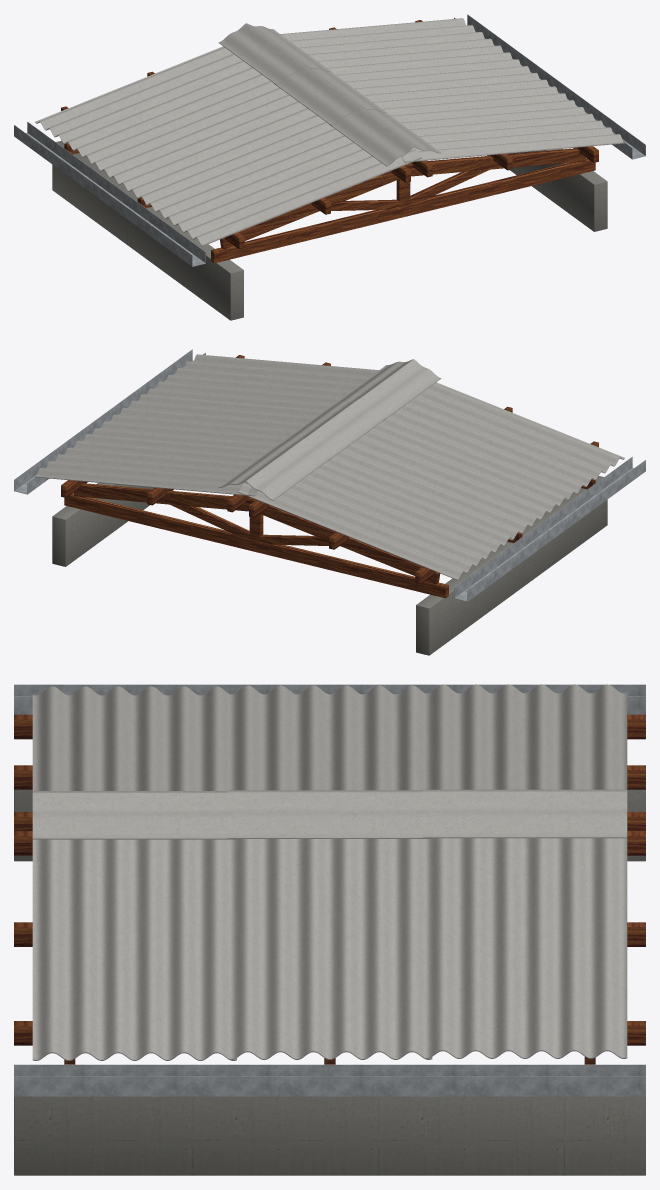
Rendered from KIT-COB-02.glb.
The picture shows the model from 3 angles, top to bottom: view 1: azimuth 30°, elevation 25°; view 2: azimuth 150°, elevation 25°; view 3: azimuth 270°, elevation 25°; orthographic projection. The views are drawn at different scales.
Visible parts, largest first — view 1: KIT-COB-02_p0, KIT-COB-02_p2, KIT-COB-02_p1, KIT-COB-02_p3, KIT-COB-02_p5, KIT-COB-02_p4, KIT-COB-02_apoio-1, KIT-COB-02_linha0, KIT-COB-02_calha-1, KIT-COB-02_p8, KIT-COB-02_p6, KIT-COB-02_p7 (+6 smaller); view 2: KIT-COB-02_p2, KIT-COB-02_p0, KIT-COB-02_p1, KIT-COB-02_p5, KIT-COB-02_p4, KIT-COB-02_p3, KIT-COB-02_apoio-1, KIT-COB-02_linha2, KIT-COB-02_calha-1, KIT-COB-02_p8, KIT-COB-02_apoio1, KIT-COB-02_p6 (+6 smaller); view 3: KIT-COB-02_apoio1, KIT-COB-02_p5, KIT-COB-02_p3, KIT-COB-02_p4, KIT-COB-02_calha1, KIT-COB-02_p2, KIT-COB-02_p1, KIT-COB-02_p0, KIT-COB-02_p8, KIT-COB-02_p6, KIT-COB-02_p7, KIT-COB-02_calha-1 (+7 smaller).
Boxes of the visible parts, box(x1,y1,x2,y2) form: KIT-COB-02_p0: box(145, 129, 421, 246); KIT-COB-02_p2: box(35, 46, 279, 164); KIT-COB-02_p1: box(90, 88, 334, 205); KIT-COB-02_p3: box(391, 100, 624, 162); KIT-COB-02_p5: box(280, 18, 512, 74); KIT-COB-02_p4: box(336, 59, 567, 115); KIT-COB-02_apoio-1: box(52, 140, 243, 320); KIT-COB-02_linha0: box(211, 158, 595, 263); KIT-COB-02_calha-1: box(14, 121, 205, 266); KIT-COB-02_p8: box(218, 23, 330, 84); KIT-COB-02_p6: box(329, 106, 440, 166); KIT-COB-02_p7: box(274, 66, 385, 125); KIT-COB-02_p2: box(238, 462, 513, 580); KIT-COB-02_p0: box(381, 382, 624, 500); KIT-COB-02_p1: box(326, 422, 569, 540); KIT-COB-02_p5: box(35, 434, 269, 496); KIT-COB-02_p4: box(93, 394, 323, 449); KIT-COB-02_p3: box(147, 354, 378, 409); KIT-COB-02_apoio-1: box(416, 476, 607, 655); KIT-COB-02_linha2: box(64, 493, 448, 598); KIT-COB-02_calha-1: box(454, 456, 645, 601); KIT-COB-02_p8: box(218, 439, 330, 500); KIT-COB-02_apoio1: box(52, 482, 153, 566); KIT-COB-02_p6: box(332, 359, 441, 420); KIT-COB-02_apoio1: box(14, 1096, 645, 1175); KIT-COB-02_p5: box(424, 838, 627, 1058); KIT-COB-02_p3: box(32, 839, 236, 1060); KIT-COB-02_p4: box(229, 839, 432, 1059); KIT-COB-02_calha1: box(14, 1064, 645, 1096); KIT-COB-02_p2: box(424, 684, 627, 789); KIT-COB-02_p1: box(229, 685, 424, 790); KIT-COB-02_p0: box(32, 686, 229, 790); KIT-COB-02_p8: box(423, 789, 627, 838); KIT-COB-02_p6: box(32, 791, 236, 839); KIT-COB-02_p7: box(227, 790, 432, 838); KIT-COB-02_calha-1: box(14, 684, 645, 714).
Bounding box in the file's own units: 4.99 × 1.31 × 3.4.
Materials: 4 (4 with a texture image).
